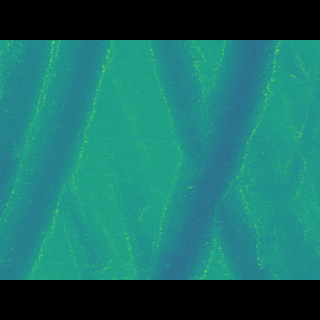Loch: (134, 69, 283, 249), (0, 69, 113, 250)
